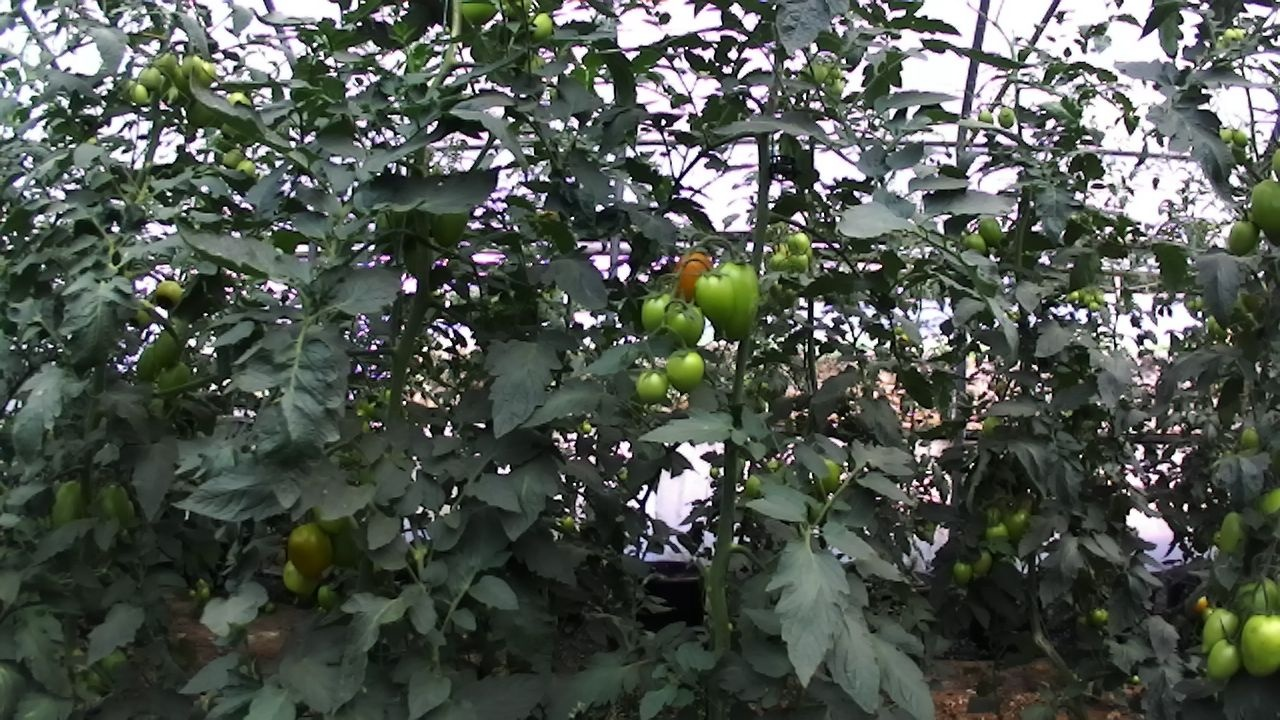tomato: (708, 251, 771, 348), (282, 516, 341, 582), (669, 242, 725, 308), (1236, 604, 1280, 684), (1243, 171, 1280, 261), (91, 474, 140, 540), (631, 282, 686, 340), (689, 264, 742, 324), (657, 342, 714, 397), (1193, 602, 1246, 661), (660, 296, 714, 352), (45, 474, 93, 535), (1217, 211, 1270, 265), (1211, 503, 1257, 562), (1201, 632, 1251, 686), (275, 552, 328, 601), (149, 350, 196, 396), (630, 360, 675, 407), (147, 321, 187, 373), (146, 273, 189, 314), (522, 4, 561, 49), (129, 339, 168, 383), (966, 545, 996, 581), (179, 49, 208, 85), (982, 516, 1014, 548), (136, 59, 165, 92), (230, 152, 259, 183), (975, 215, 1004, 245), (149, 46, 181, 73), (950, 556, 975, 590), (961, 229, 991, 257), (785, 228, 813, 256), (786, 249, 815, 276), (125, 81, 153, 107), (995, 105, 1017, 130), (976, 107, 998, 129)
